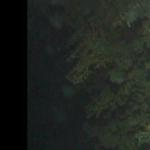dead: (26, 1, 147, 147)
